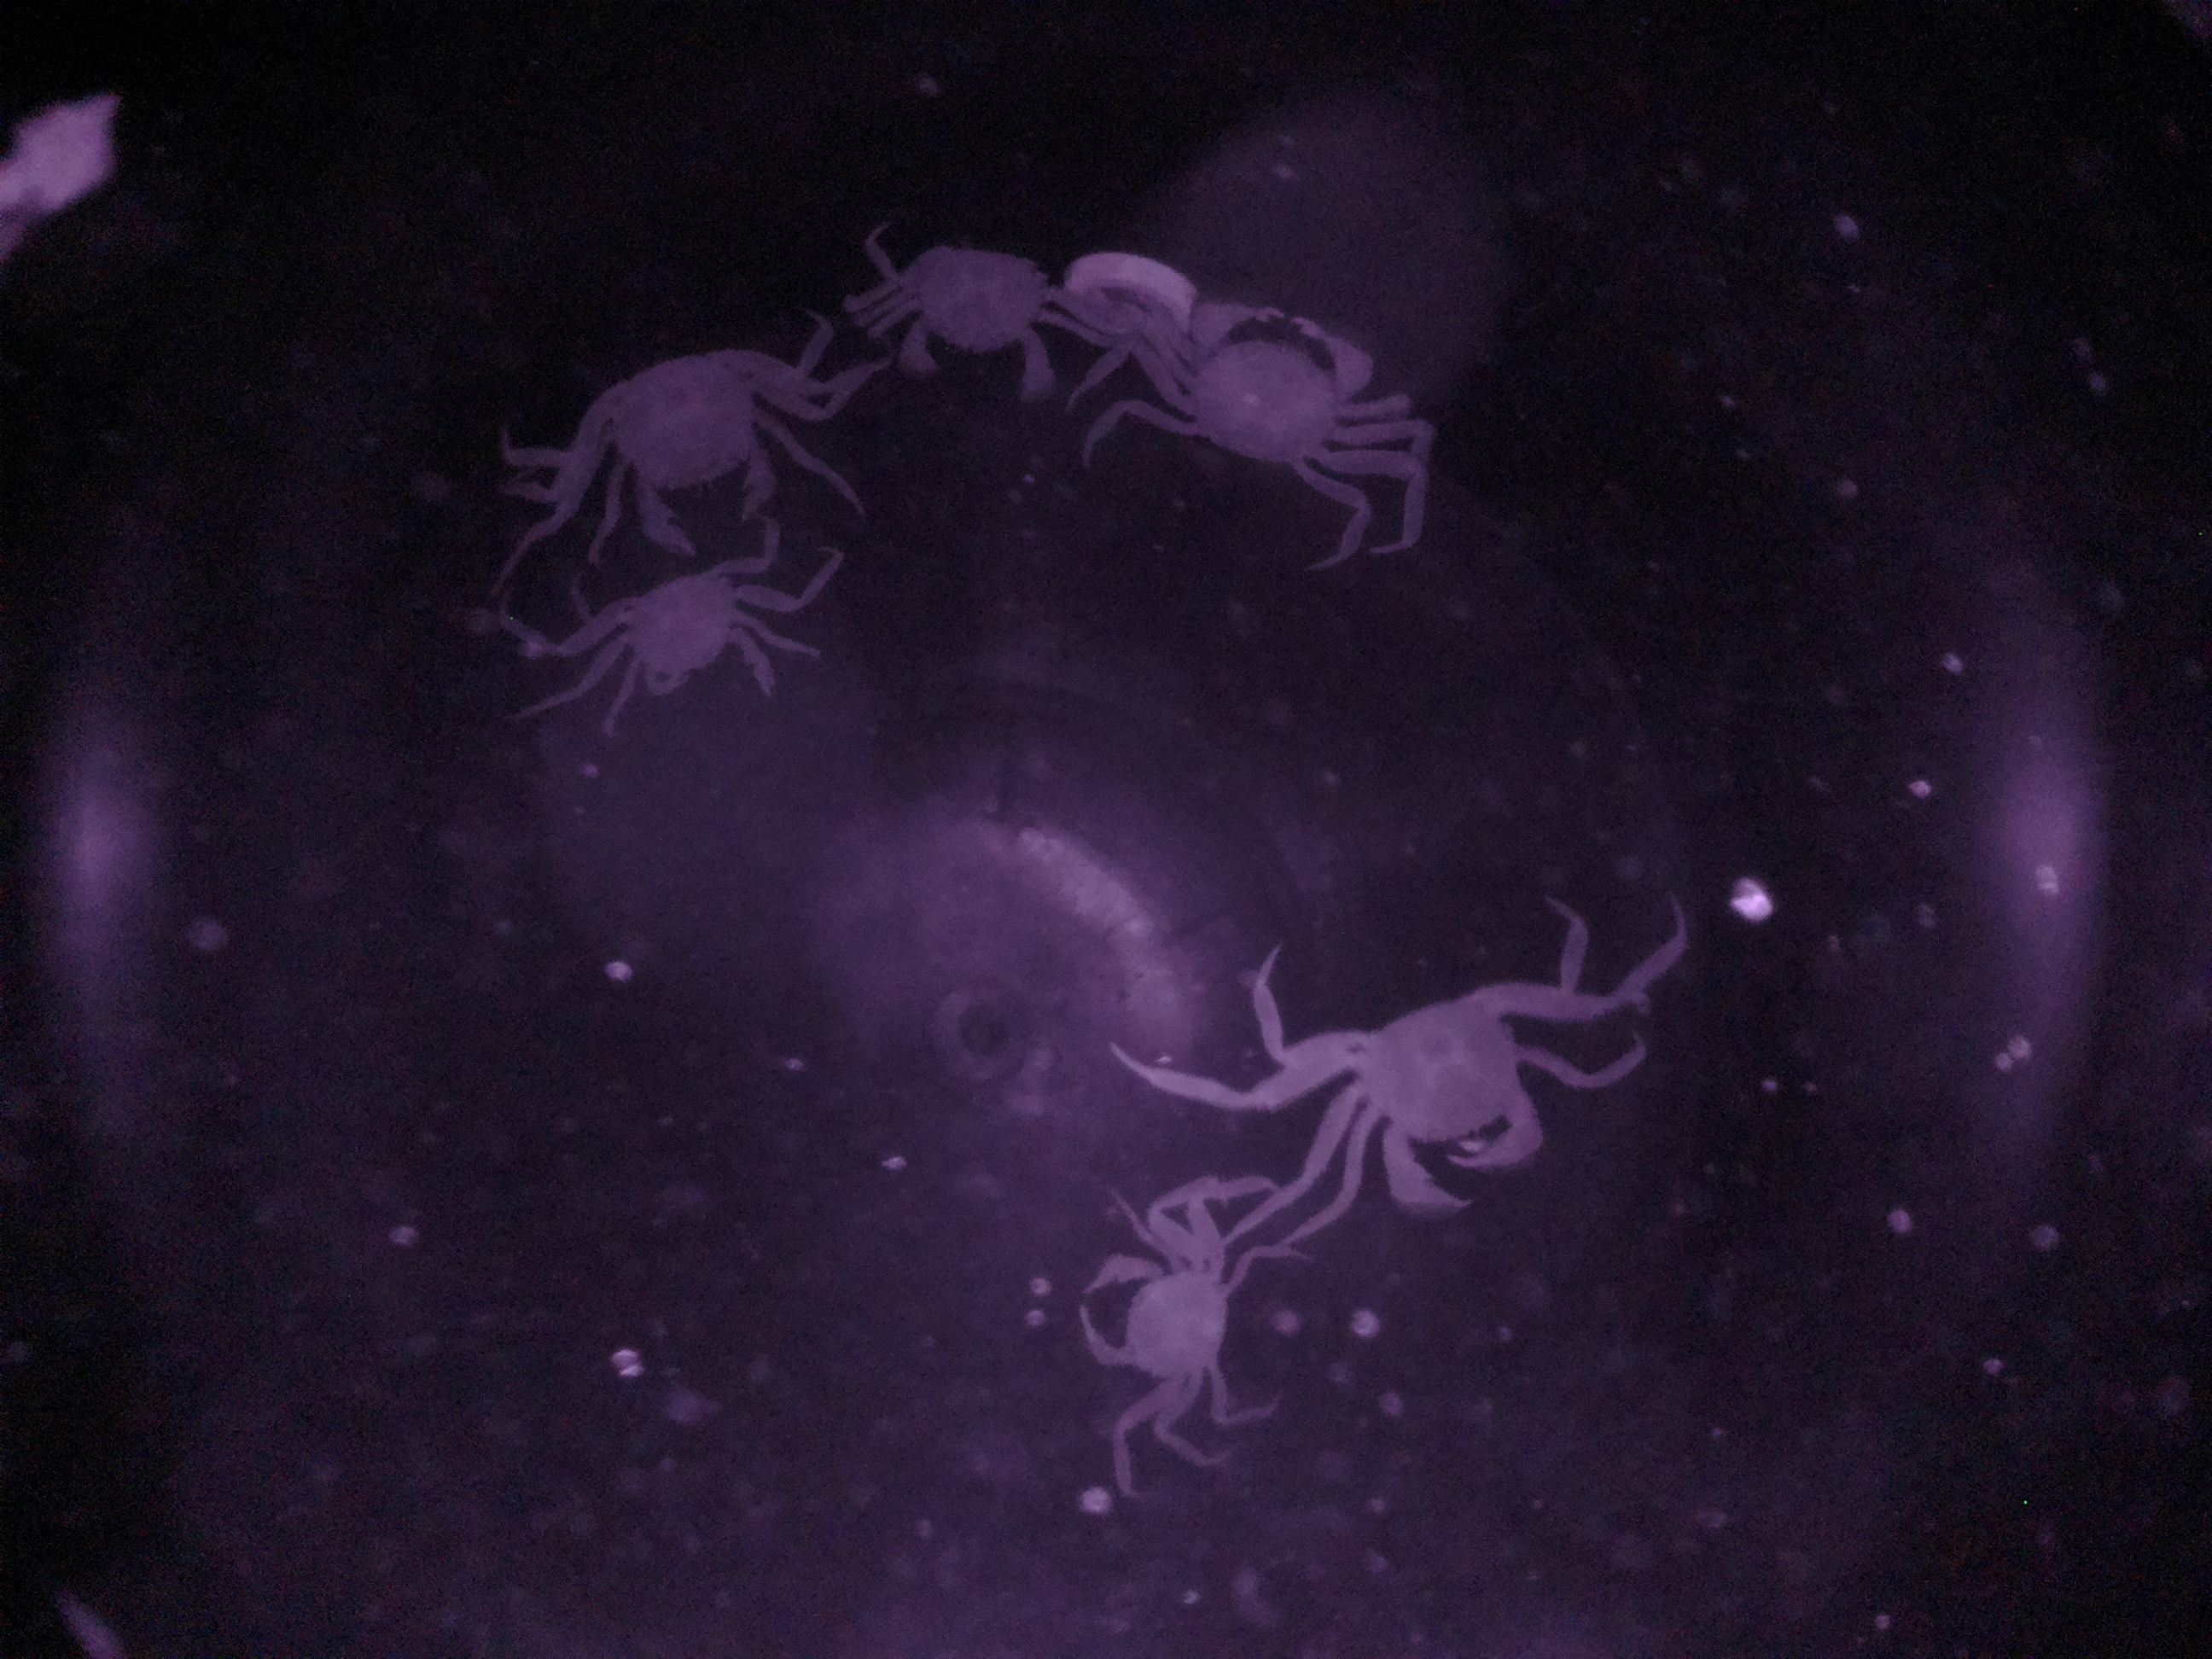Crab: (1305, 955, 1559, 1229), (1167, 284, 1404, 519), (587, 335, 819, 547), (1071, 1220, 1245, 1410), (897, 228, 1073, 413), (608, 556, 789, 713)
